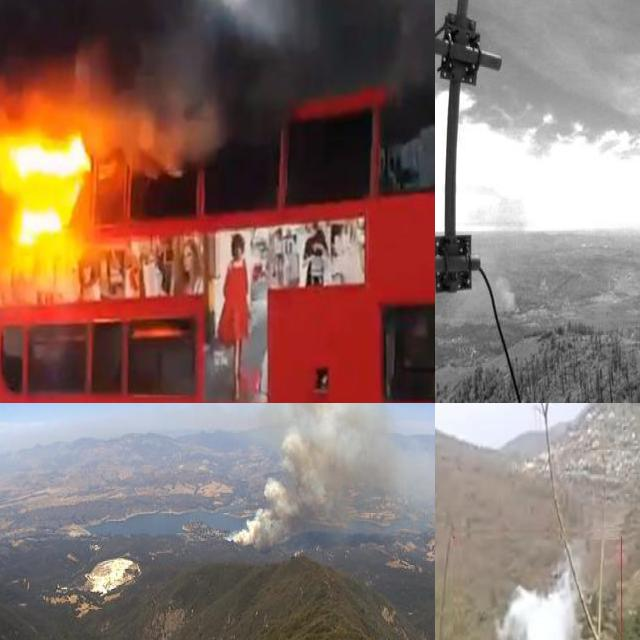fire: (0, 45, 171, 303)
smoke: (0, 0, 435, 103), (223, 403, 431, 553), (468, 211, 522, 324), (497, 570, 579, 640)
